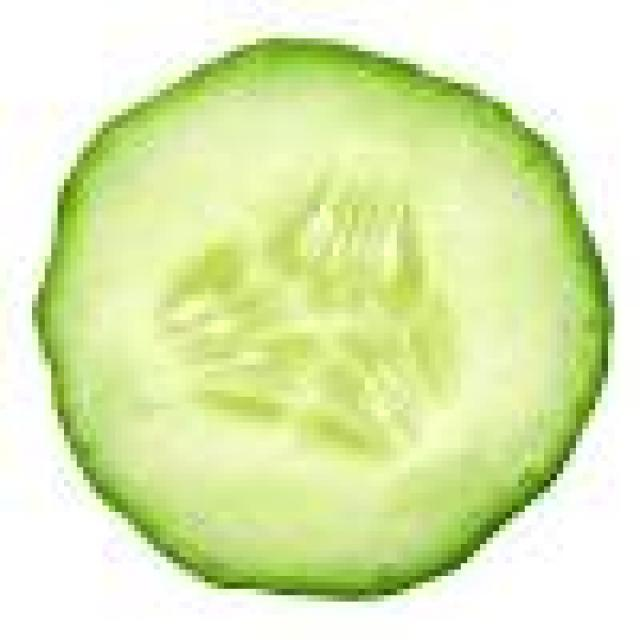Pickle: (38, 40, 605, 593)
